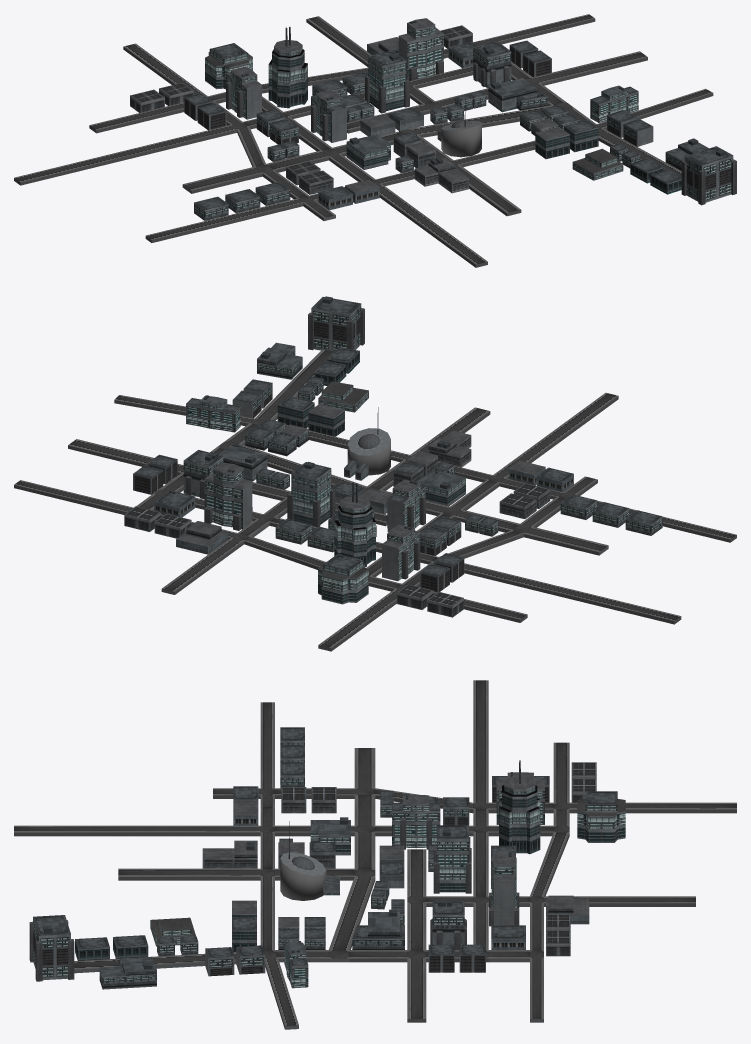
The model's file is City02.fbx.
3 views of the same model, one above another, from view 1: azimuth 30°, elevation 25°; view 2: azimuth 150°, elevation 25°; view 3: azimuth 270°, elevation 25° (orthographic). The views are drawn at different scales.
Visible parts, largest first — view 1: City02; view 2: City02; view 3: City02.
Boxes of the visible parts, bbox=[...] form: City02: bbox=[14, 14, 736, 267]; City02: bbox=[14, 296, 736, 651]; City02: bbox=[14, 680, 736, 1029].
Size of the model in its own units: 2843 by 327 by 2510.
